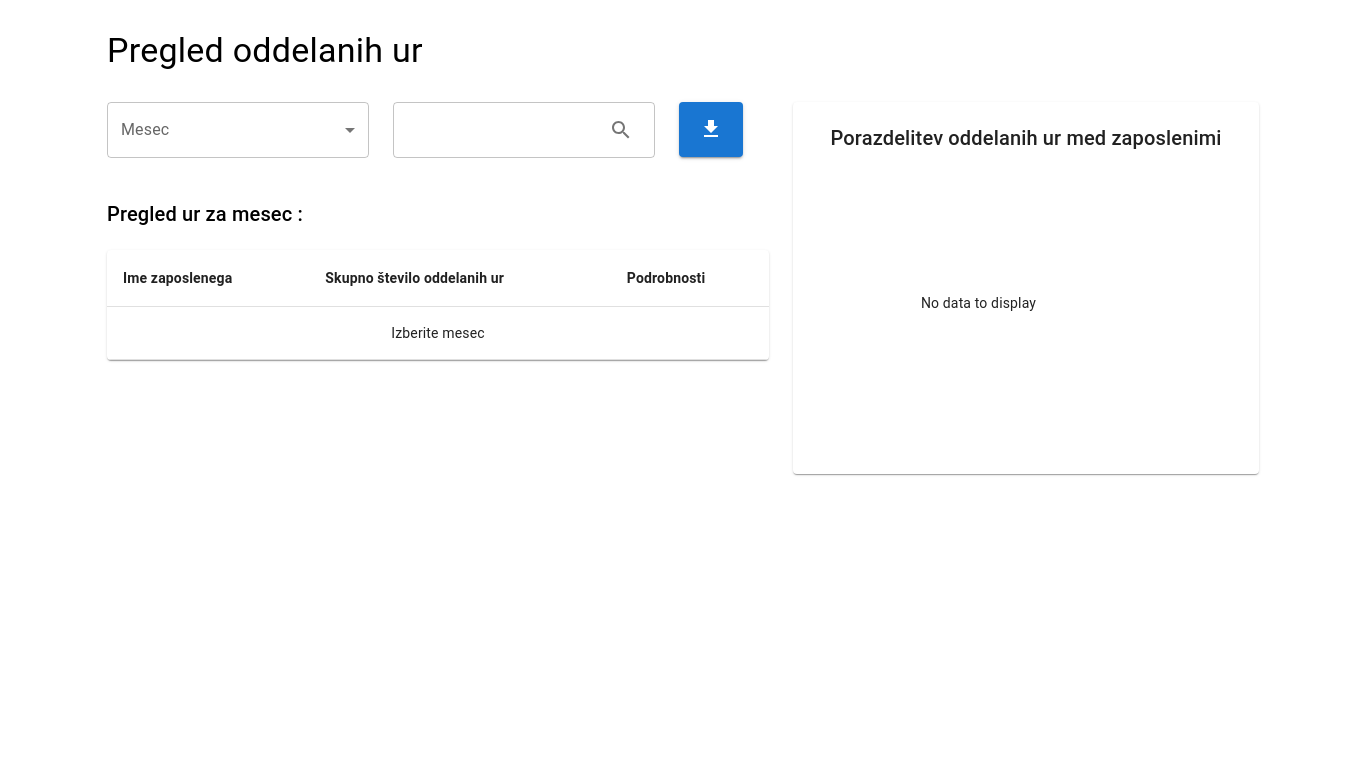
Scenario: Overview Component › fetches and displays data when a month is selected
The image size is (1366, 768).
Press the mouse on the dropdown named "mesec" at (238, 130), box [107, 102, 369, 158]
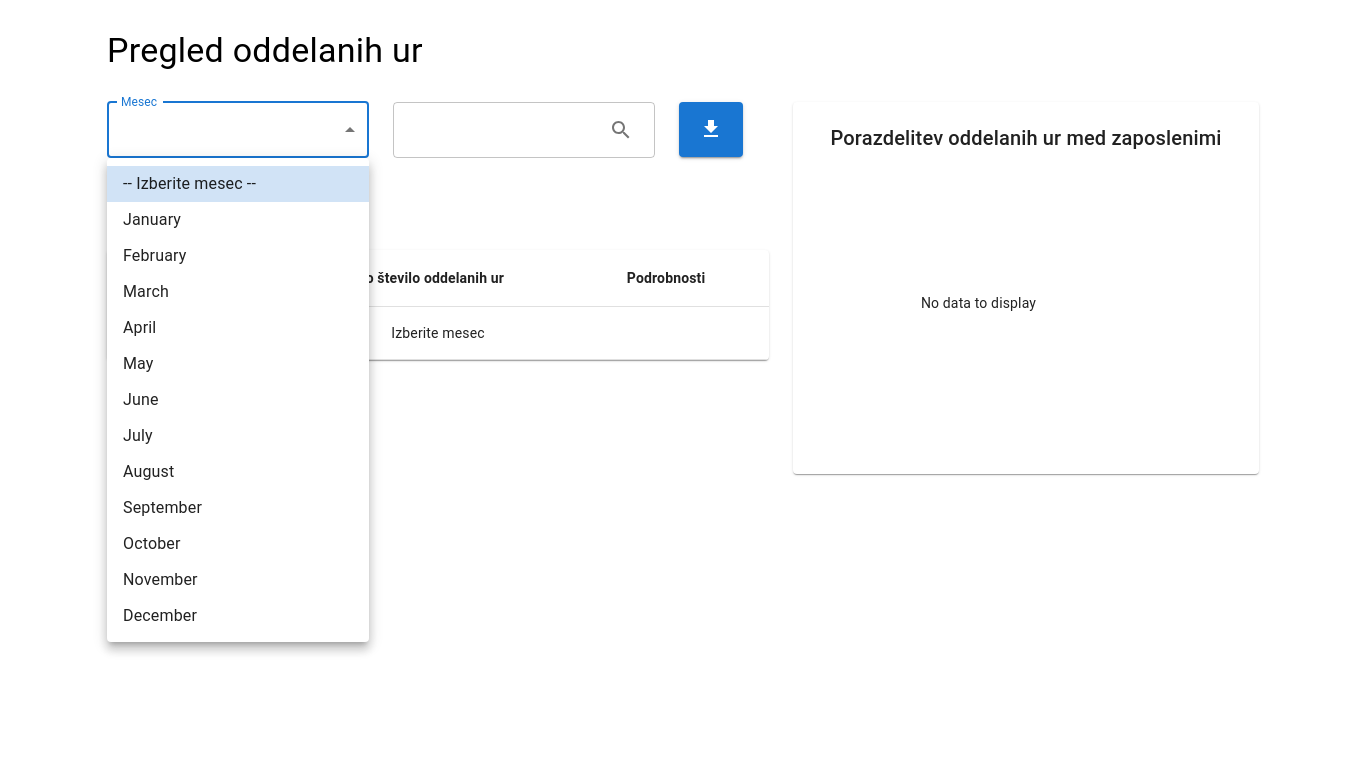
Click the option "January" at (152, 220), box [123, 210, 181, 229]
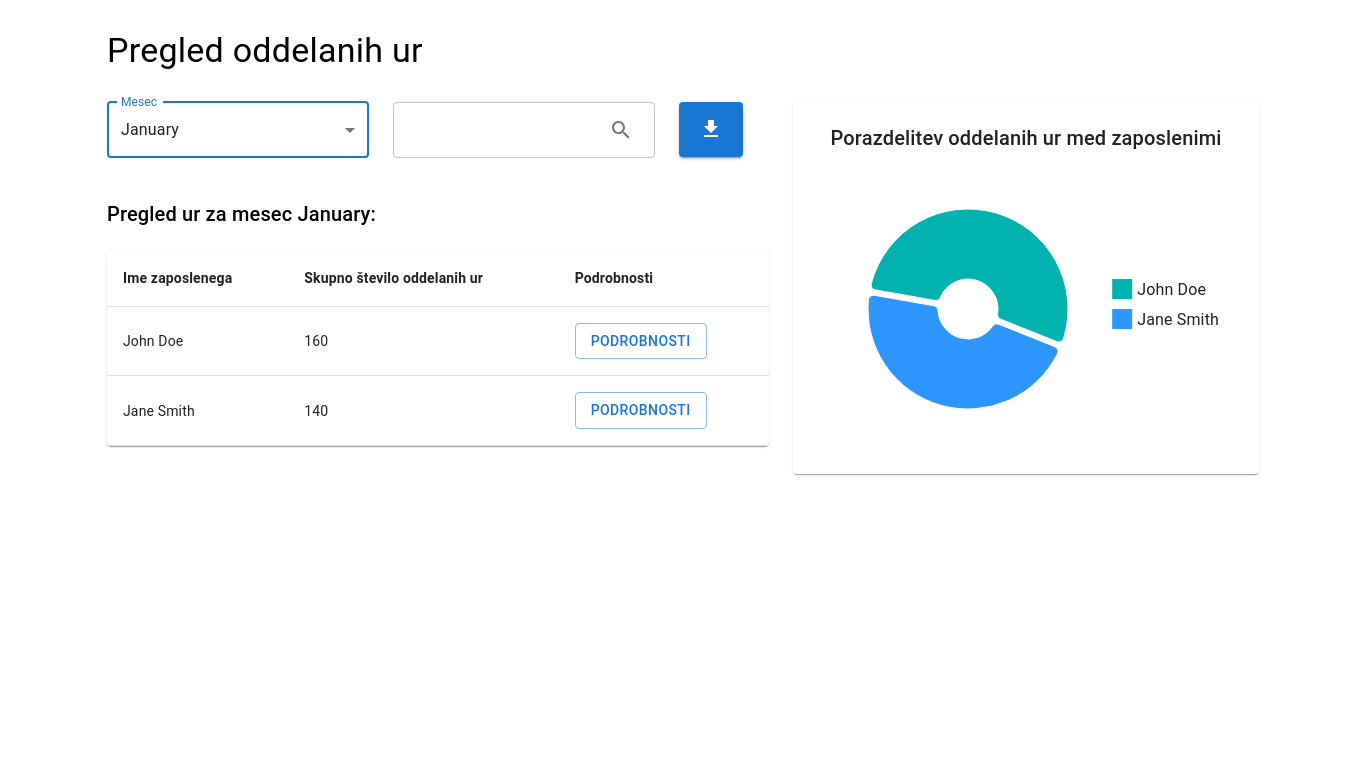
Result: the text "John Doe" is shown at [107, 306, 288, 376]
Result: the text "160" is shown at [288, 306, 559, 376]
Result: the text "Jane Smith" is shown at [107, 376, 288, 446]
